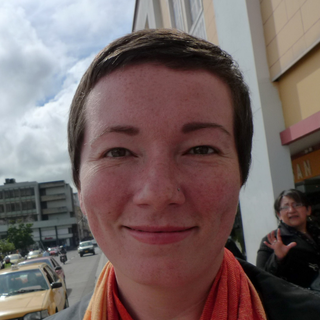eye: (177, 140, 225, 163), (98, 142, 143, 165)
